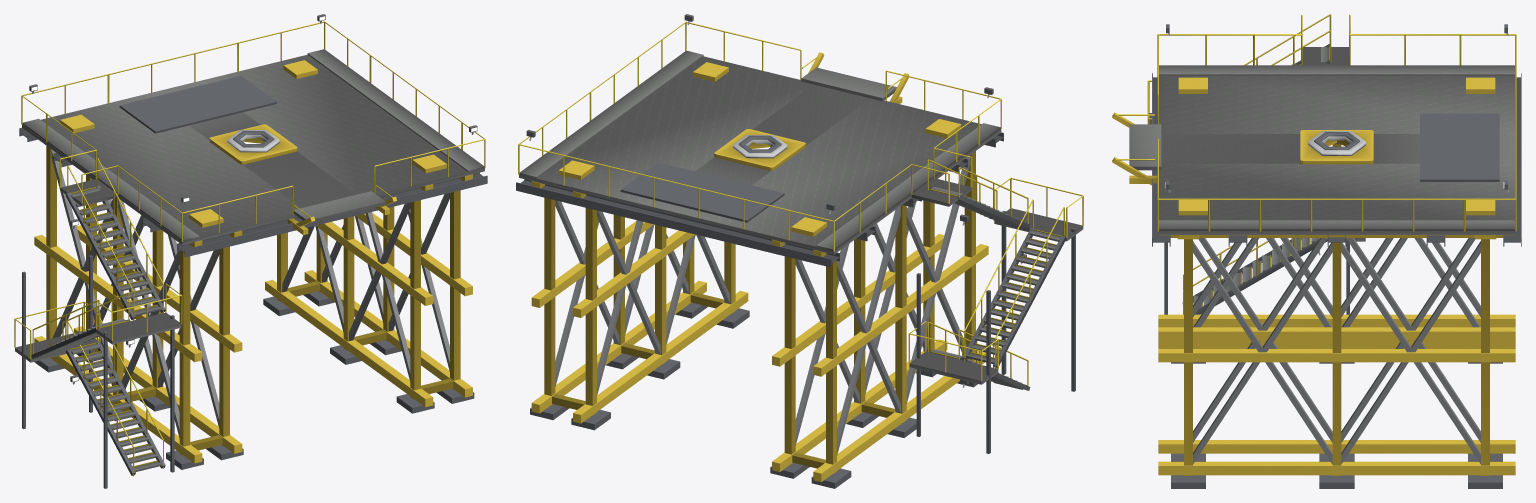
Rendered from substructure_drill_floor_a_lodl.glb.
The picture shows the model from 3 angles, left to right: view 1: azimuth 30°, elevation 25°; view 2: azimuth 150°, elevation 25°; view 3: azimuth 270°, elevation 25°; orthographic projection. The views are drawn at different scales.
Visible parts, largest first — view 1: drill_floor_deck, box_on_box_frames_oxide, box_on_box_frames_ivory, perimeter_grating_deck, setback_dark, floor_support_beams_dark, box_on_box_frames_dark, handrails_yellow, flight_1_deck, stairs_dark, flight_3_deck, flight_2_deck (+10 smaller); view 2: drill_floor_deck, box_on_box_frames_oxide, box_on_box_frames_ivory, perimeter_grating_deck, setback_dark, floor_support_beams_dark, box_on_box_frames_dark, flight_2_deck, handrails_yellow, stairs_dark, flight_2_yellow, derrick_mounts_oxide (+8 smaller); view 3: drill_floor_deck, box_on_box_frames_oxide, box_on_box_frames_ivory, perimeter_grating_deck, setback_dark, handrails_yellow, floor_support_beams_dark, box_on_box_frames_dark, derrick_mounts_oxide, rotary_table_oxide, vdoor_deck, flight_1_deck (+7 smaller).
Boxes of the visible parts, x1=… form: drill_floor_deck: x1=22, y1=54, x2=484, y2=244; box_on_box_frames_oxide: x1=34, y1=146, x2=472, y2=463; box_on_box_frames_ivory: x1=51, y1=150, x2=449, y2=437; perimeter_grating_deck: x1=22, y1=49, x2=484, y2=241; setback_dark: x1=119, y1=76, x2=276, y2=133; floor_support_beams_dark: x1=19, y1=127, x2=487, y2=257; box_on_box_frames_dark: x1=34, y1=291, x2=474, y2=469; handrails_yellow: x1=21, y1=21, x2=485, y2=241; flight_1_deck: x1=15, y1=330, x2=162, y2=471; stairs_dark: x1=22, y1=255, x2=174, y2=488; flight_3_deck: x1=71, y1=188, x2=162, y2=316; flight_2_deck: x1=34, y1=312, x2=181, y2=357; drill_floor_deck: x1=519, y1=56, x2=1001, y2=254; box_on_box_frames_oxide: x1=531, y1=151, x2=988, y2=482; box_on_box_frames_ivory: x1=555, y1=155, x2=970, y2=455; perimeter_grating_deck: x1=519, y1=50, x2=1000, y2=250; setback_dark: x1=620, y1=162, x2=784, y2=222; floor_support_beams_dark: x1=516, y1=132, x2=1003, y2=267; box_on_box_frames_dark: x1=530, y1=302, x2=977, y2=488; flight_2_deck: x1=965, y1=208, x2=1083, y2=364; handrails_yellow: x1=518, y1=21, x2=1001, y2=251; stairs_dark: x1=916, y1=211, x2=1075, y2=453; flight_2_yellow: x1=964, y1=177, x2=1083, y2=368; derrick_mounts_oxide: x1=558, y1=62, x2=961, y2=236; drill_floor_deck: x1=1158, y1=76, x2=1515, y2=234; box_on_box_frames_oxide: x1=1158, y1=144, x2=1515, y2=475; box_on_box_frames_ivory: x1=1193, y1=238, x2=1480, y2=464; perimeter_grating_deck: x1=1159, y1=65, x2=1514, y2=230; setback_dark: x1=1420, y1=113, x2=1499, y2=181; handrails_yellow: x1=1157, y1=34, x2=1516, y2=231; floor_support_beams_dark: x1=1152, y1=73, x2=1521, y2=246; box_on_box_frames_dark: x1=1171, y1=362, x2=1502, y2=488; derrick_mounts_oxide: x1=1178, y1=77, x2=1495, y2=215; rotary_table_oxide: x1=1300, y1=130, x2=1373, y2=164; vdoor_deck: x1=1129, y1=124, x2=1161, y2=170; flight_1_deck: x1=1193, y1=238, x2=1365, y2=308.
Bounding box in the file's own units: 15.26 × 10.54 × 12.83.
Materials: 6 (6 with a texture image).
